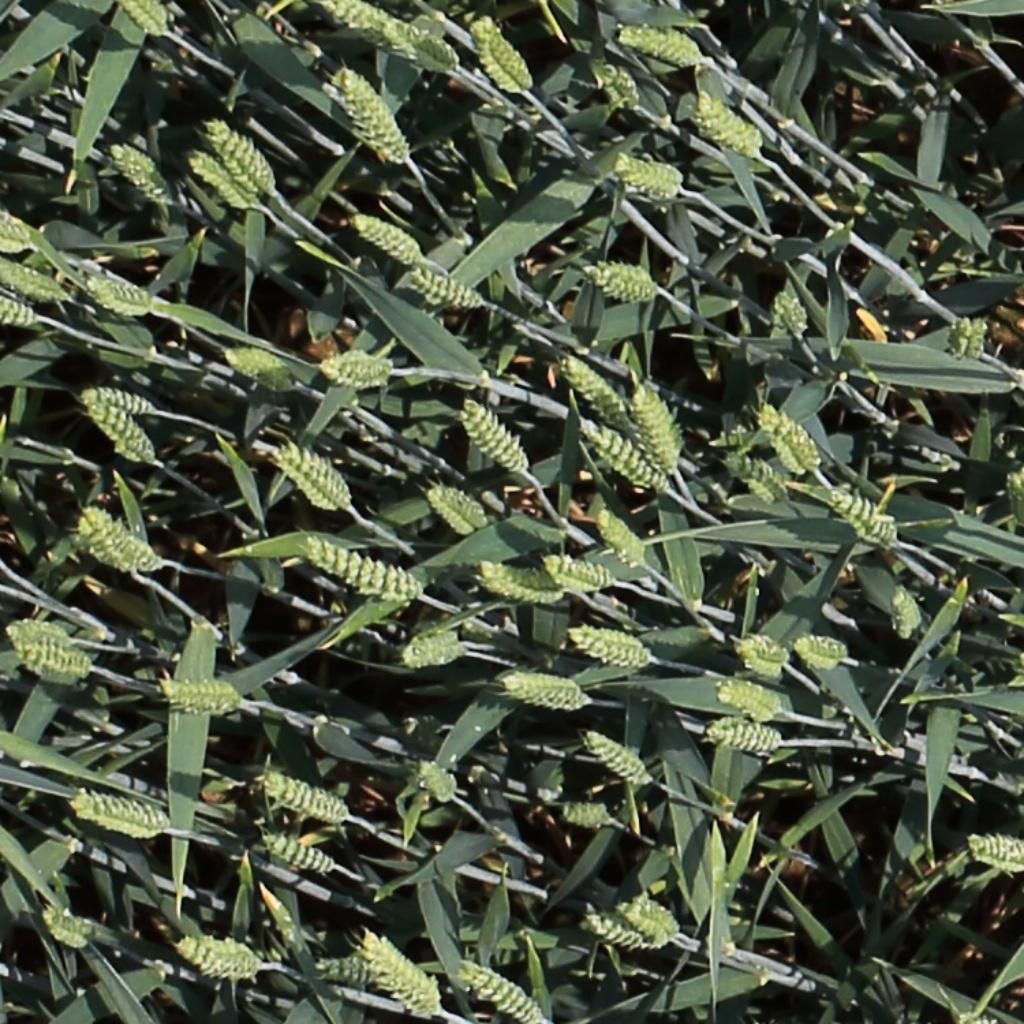0-0: (334, 61, 410, 165), (352, 932, 434, 1016), (305, 542, 421, 599), (559, 350, 636, 435), (580, 417, 667, 491), (204, 114, 281, 195), (460, 395, 533, 476), (469, 13, 536, 95), (77, 505, 158, 572), (81, 395, 158, 464), (274, 446, 352, 512), (199, 136, 268, 210), (458, 961, 542, 1021), (757, 402, 826, 471), (633, 379, 682, 476), (260, 774, 350, 824), (107, 137, 173, 203), (697, 92, 765, 155), (827, 486, 899, 544), (187, 148, 255, 208), (177, 939, 274, 980), (584, 730, 653, 787), (72, 794, 169, 834), (387, 19, 460, 72), (595, 503, 651, 569), (352, 211, 423, 263), (159, 672, 242, 716), (572, 626, 653, 669), (409, 264, 487, 308), (619, 25, 707, 62), (320, 350, 395, 393), (260, 834, 337, 875), (0, 251, 65, 299), (425, 484, 484, 536), (582, 910, 671, 944), (724, 453, 791, 498), (479, 565, 563, 600), (13, 644, 95, 679), (706, 716, 785, 752), (598, 58, 648, 113), (84, 275, 152, 314), (614, 154, 685, 191), (584, 264, 659, 299), (506, 675, 587, 707), (313, 948, 374, 989), (413, 756, 460, 808), (613, 893, 682, 927), (544, 558, 619, 589), (720, 685, 786, 720), (774, 282, 813, 341), (326, 0, 395, 32), (891, 581, 924, 647), (225, 349, 290, 378), (42, 909, 90, 948), (402, 637, 465, 666), (87, 387, 155, 413), (961, 309, 991, 367), (7, 621, 76, 646), (124, 1, 170, 38), (737, 635, 790, 667), (966, 841, 1024, 869), (563, 801, 619, 828), (0, 288, 39, 326), (793, 634, 850, 660), (0, 202, 32, 248)
